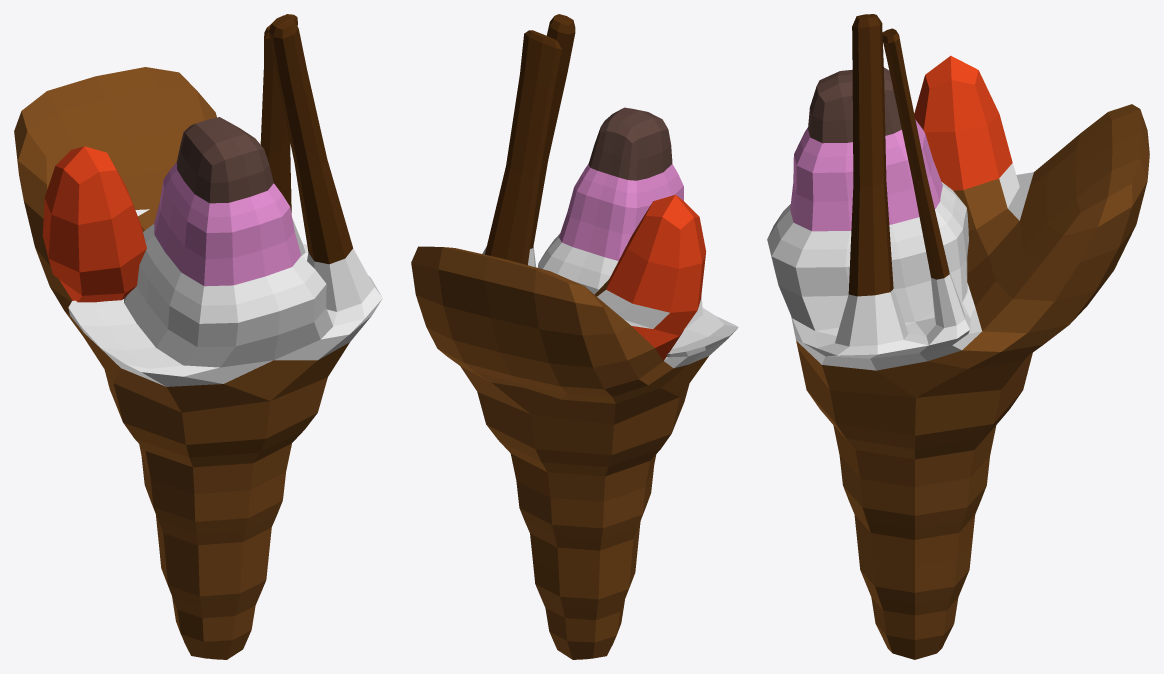
The model's file is icecreampillar.fbx.
3 views of the same model, side by side, from view 1: azimuth 30°, elevation 25°; view 2: azimuth 150°, elevation 25°; view 3: azimuth 270°, elevation 25° (orthographic). The views are drawn at different scales.
Visible parts, largest first — view 1: Cube; view 2: Cube; view 3: Cube.
Part boxes in pixels (x1,y1,x2,y2): Cube: (14, 14, 382, 659); Cube: (411, 14, 738, 659); Cube: (767, 14, 1149, 659).
Size of the model in its own units: 756 by 1655 by 860.
